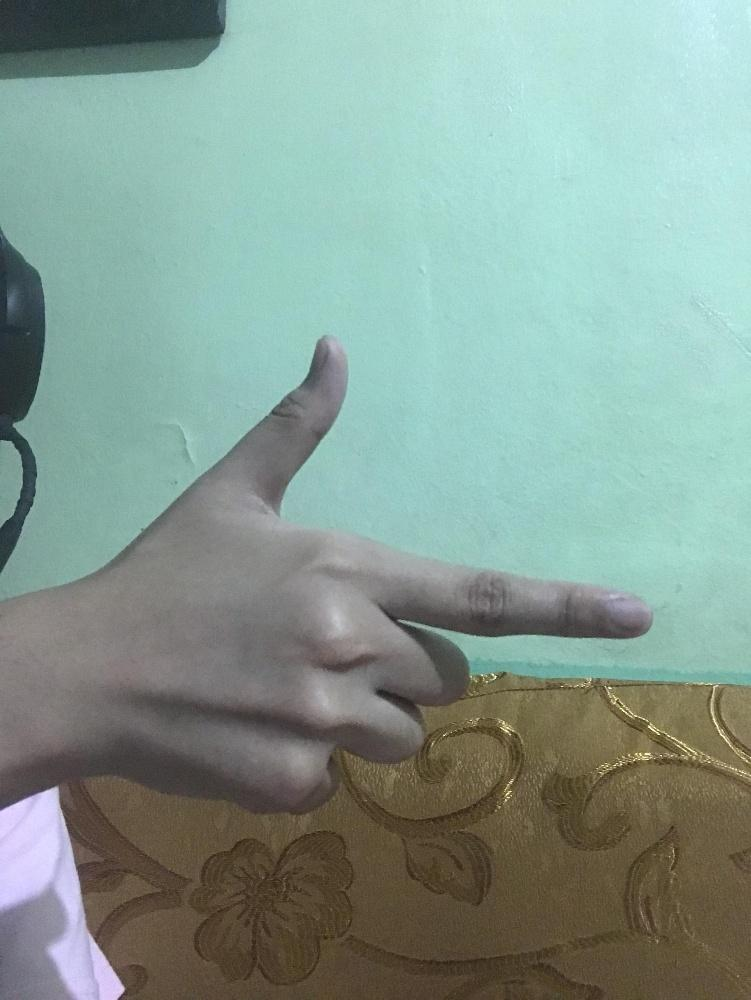g: (109, 328, 656, 817)
